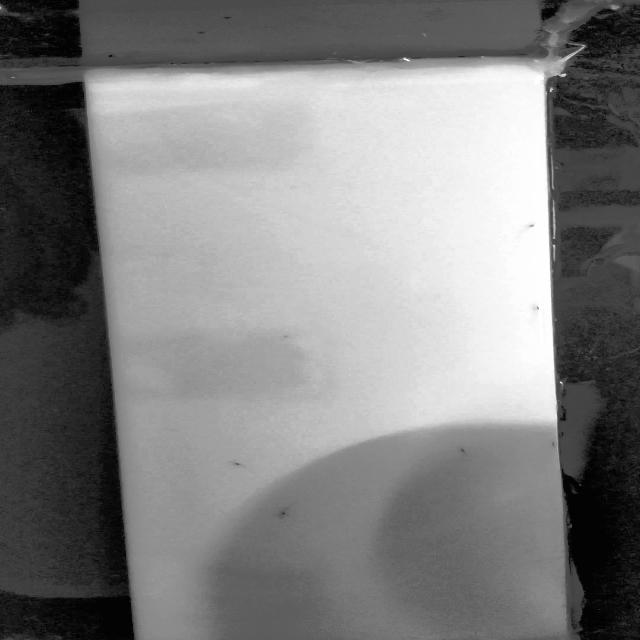shrimp: (270, 497, 304, 520), (539, 432, 562, 454), (517, 293, 542, 312), (223, 460, 259, 473), (512, 221, 547, 234), (454, 446, 486, 458)
